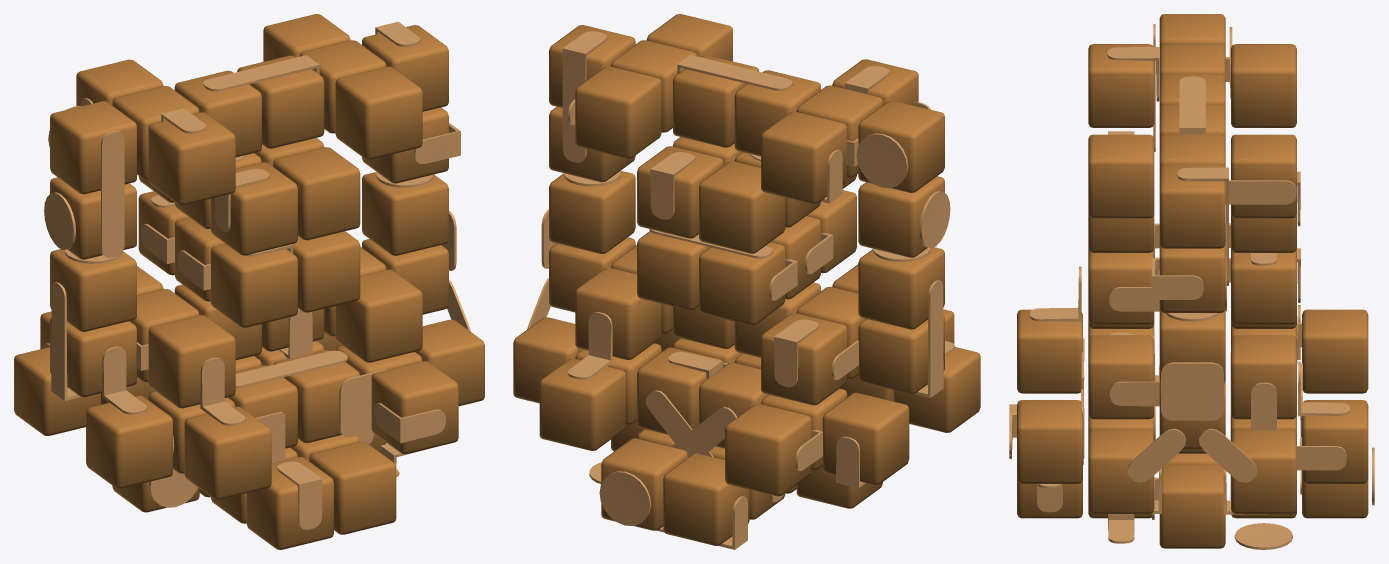
Rendered from level_142.fbx.
3 views of the same model, side by side, from view 1: azimuth 30°, elevation 25°; view 2: azimuth 150°, elevation 25°; view 3: azimuth 270°, elevation 25° (orthographic).
Visible parts, largest first — view 1: Cube_L3_19.028, Cube_L3_19.023, Cube_L3_19.029, Cube_L3_19.049, Cube_L3_19.027, Cube_L3_19.058, Cube_L3_19.022, Cube_L3_19, Cube_L3_19.025, Cube_L3_19.063, Cube_L3_19.053, Cube_L3_19.059 (+51 smaller); view 2: Cube_L3_19.036, Cube_L3_19.031, Cube_L3_19.032, Cube_L3_19.037, Cube_L3_19.057, Cube_L3_19.051, Cube_L3_19, Cube_L3_19.034, Cube_L3_19.056, Cube_L3_19.055, Cube_L3_19.035, Cube_L3_19.030 (+53 smaller); view 3: Cube_L3_19.028, Cube_L3_19.031, Cube_L3_19.037, Cube_L3_19.024, Cube_L3_19.009, Cube_L3_19.054, Cube_L3_19.029, Cube_L3_19.023, Cube_L3_19.050, Cube_L3_19.052, Cube_L3_19.035, Cube_L3_19.027 (+36 smaller).
Part boxes in pixels (x1,y1,x2,y2): Cube_L3_19.028: (335, 66, 422, 159); Cube_L3_19.023: (184, 406, 271, 499); Cube_L3_19.029: (148, 112, 235, 205); Cube_L3_19.049: (86, 395, 172, 488); Cube_L3_19.027: (335, 269, 422, 362); Cube_L3_19.058: (210, 244, 297, 327); Cube_L3_19.022: (148, 315, 235, 408); Cube_L3_19: (362, 172, 448, 255); Cube_L3_19.025: (309, 441, 396, 534); Cube_L3_19.063: (273, 147, 360, 240); Cube_L3_19.053: (50, 101, 136, 194); Cube_L3_19.059: (210, 162, 297, 255); Cube_L3_19.036: (575, 66, 661, 158); Cube_L3_19.031: (725, 403, 811, 496); Cube_L3_19.032: (539, 358, 625, 450); Cube_L3_19.037: (761, 111, 847, 203); Cube_L3_19.057: (699, 161, 785, 253); Cube_L3_19.051: (822, 392, 909, 485); Cube_L3_19: (549, 171, 635, 253); Cube_L3_19.034: (663, 453, 749, 545); Cube_L3_19.056: (699, 242, 785, 325); Cube_L3_19.055: (858, 247, 944, 329); Cube_L3_19.035: (575, 267, 661, 359); Cube_L3_19.030: (761, 313, 847, 405); Cube_L3_19.028: (1088, 134, 1154, 218); Cube_L3_19.031: (1302, 309, 1368, 393); Cube_L3_19.037: (1231, 44, 1296, 127); Cube_L3_19.024: (1017, 400, 1082, 483); Cube_L3_19.009: (1159, 464, 1225, 548); Cube_L3_19.054: (1159, 164, 1225, 248); Cube_L3_19.029: (1088, 44, 1154, 127); Cube_L3_19.023: (1017, 309, 1082, 393); Cube_L3_19.050: (1088, 430, 1154, 513); Cube_L3_19.052: (1231, 430, 1296, 513); Cube_L3_19.035: (1231, 335, 1296, 419); Cube_L3_19.027: (1088, 335, 1154, 419).
Bounding box in the file's own units: 12.87 × 13.02 × 10.76.
